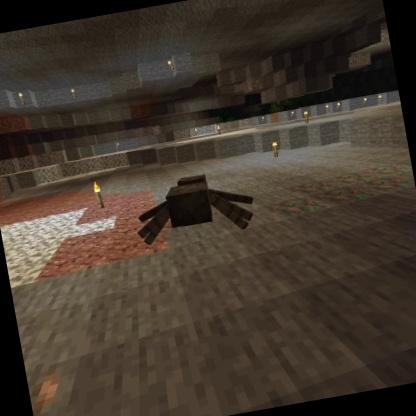spider: (127, 161, 264, 252)
